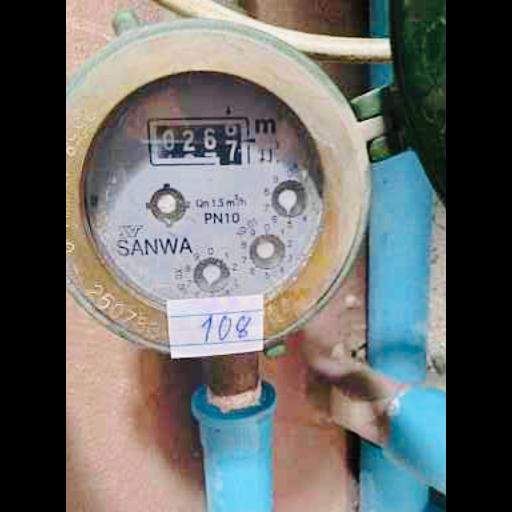0: (157, 125, 178, 157)
2: (178, 125, 200, 157)
6: (200, 125, 220, 158)
7: (218, 124, 242, 165)
border_water_meter_number: (147, 117, 250, 166)
